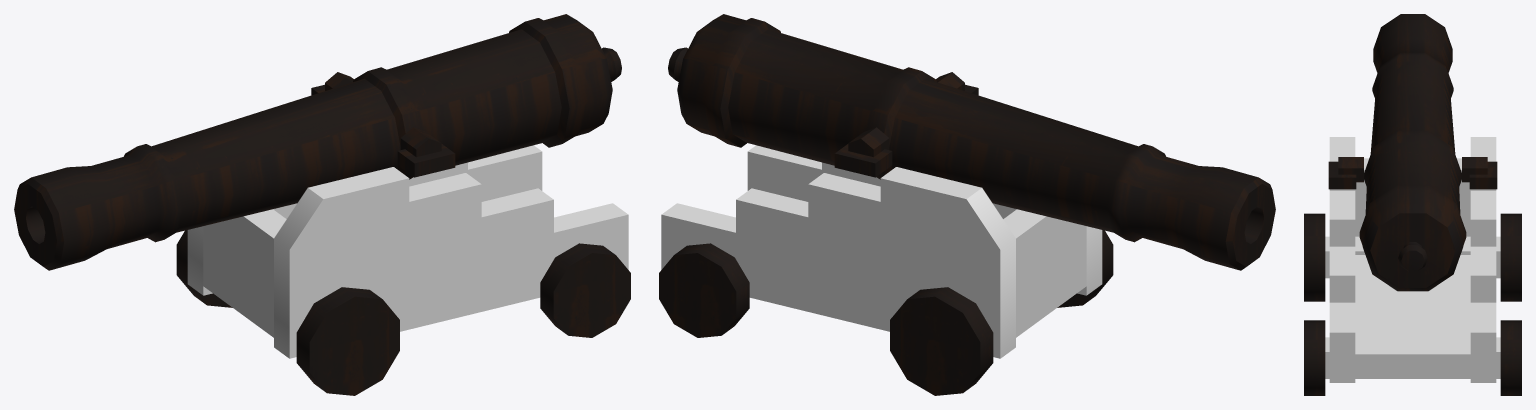
The model's file is SM_Morin_Cannone_LOD1.fbx.
3 views of the same model, side by side, from view 1: azimuth 30°, elevation 25°; view 2: azimuth 150°, elevation 25°; view 3: azimuth 270°, elevation 25° (orthographic). The views are drawn at different scales.
Parts seen in each view (by area): view 1: SM_Morin_Cannone_LOD1; view 2: SM_Morin_Cannone_LOD1; view 3: SM_Morin_Cannone_LOD1.
Boxes of the visible parts, x1,y1,x2,y2 form: SM_Morin_Cannone_LOD1: [14, 14, 630, 395]; SM_Morin_Cannone_LOD1: [659, 14, 1275, 395]; SM_Morin_Cannone_LOD1: [1304, 14, 1521, 395].
Bounding box in the file's own units: 257 × 102 × 109.
2 materials, 1 textured.
